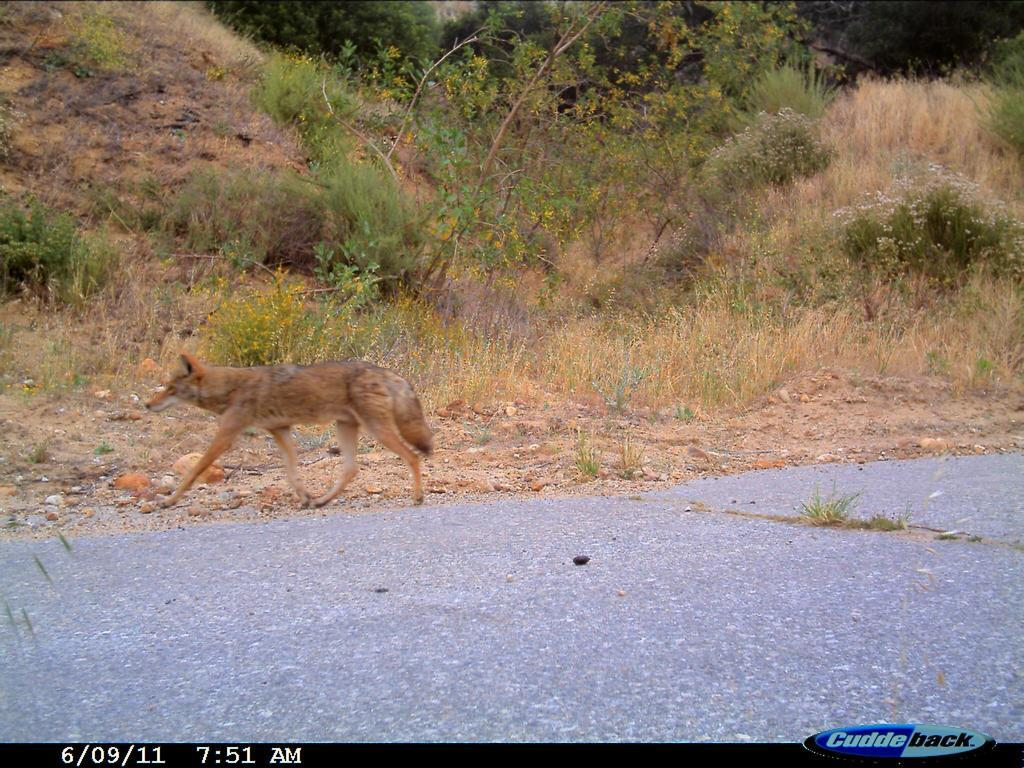coyote: (141, 351, 442, 509)
